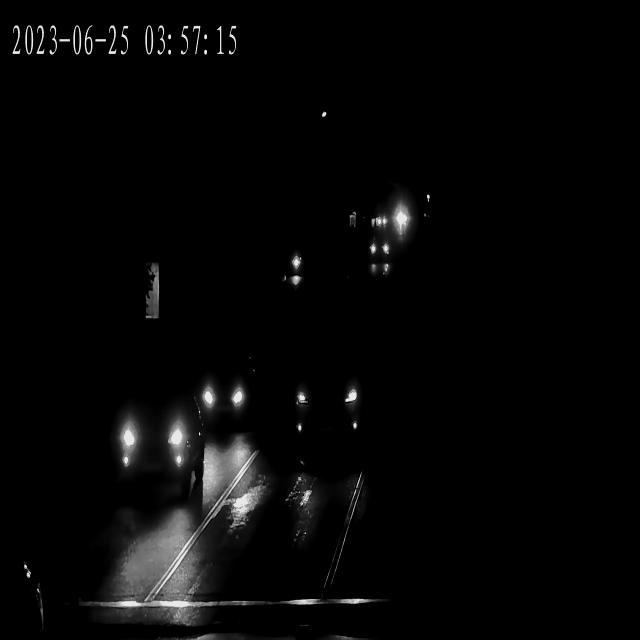Car: (106, 387, 203, 501), (284, 345, 366, 451), (188, 359, 255, 425), (0, 551, 41, 639), (368, 235, 391, 262), (393, 209, 413, 228), (390, 210, 409, 229), (371, 214, 388, 230)
